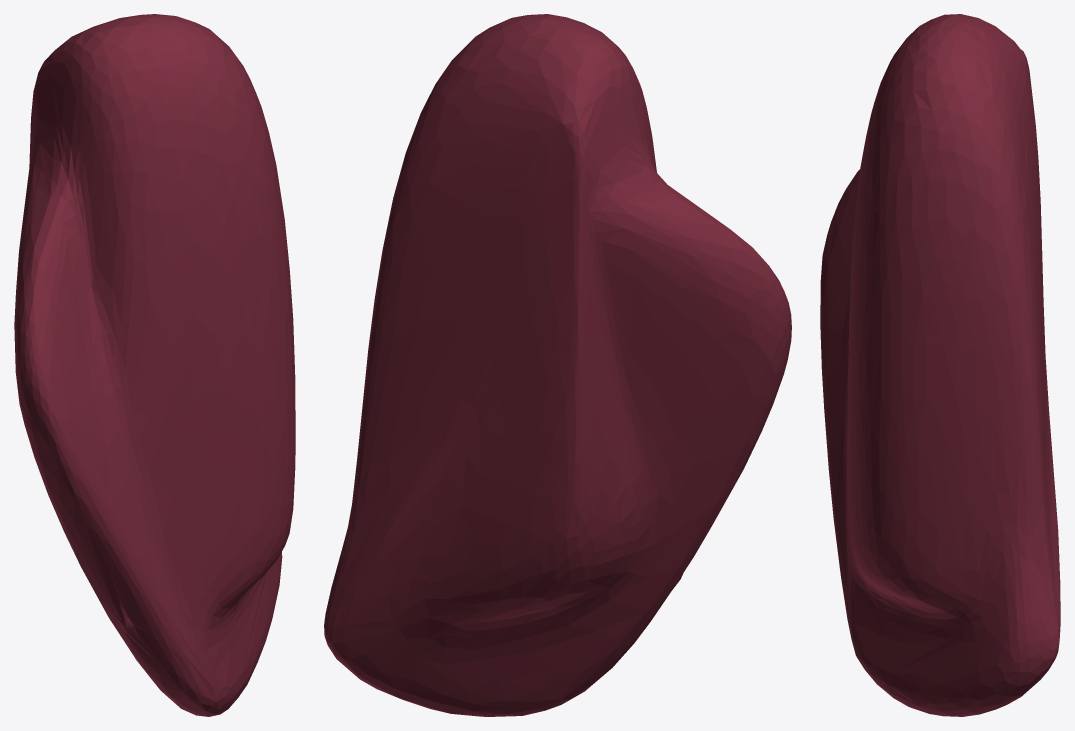
The picture shows the model from 3 angles, left to right: view 1: azimuth 30°, elevation 25°; view 2: azimuth 150°, elevation 25°; view 3: azimuth 270°, elevation 25°; orthographic projection. The views are drawn at different scales.
Visible parts, largest first — view 1: 825_Cube.3323; view 2: 825_Cube.3323; view 3: 825_Cube.3323.
Part boxes in pixels (left/top/right/bottom): 825_Cube.3323: left=14, top=14, right=295, bottom=716; 825_Cube.3323: left=324, top=14, right=791, bottom=716; 825_Cube.3323: left=820, top=14, right=1060, bottom=716.
Bounding box in the file's own units: 7.41 × 14.19 × 4.72.
